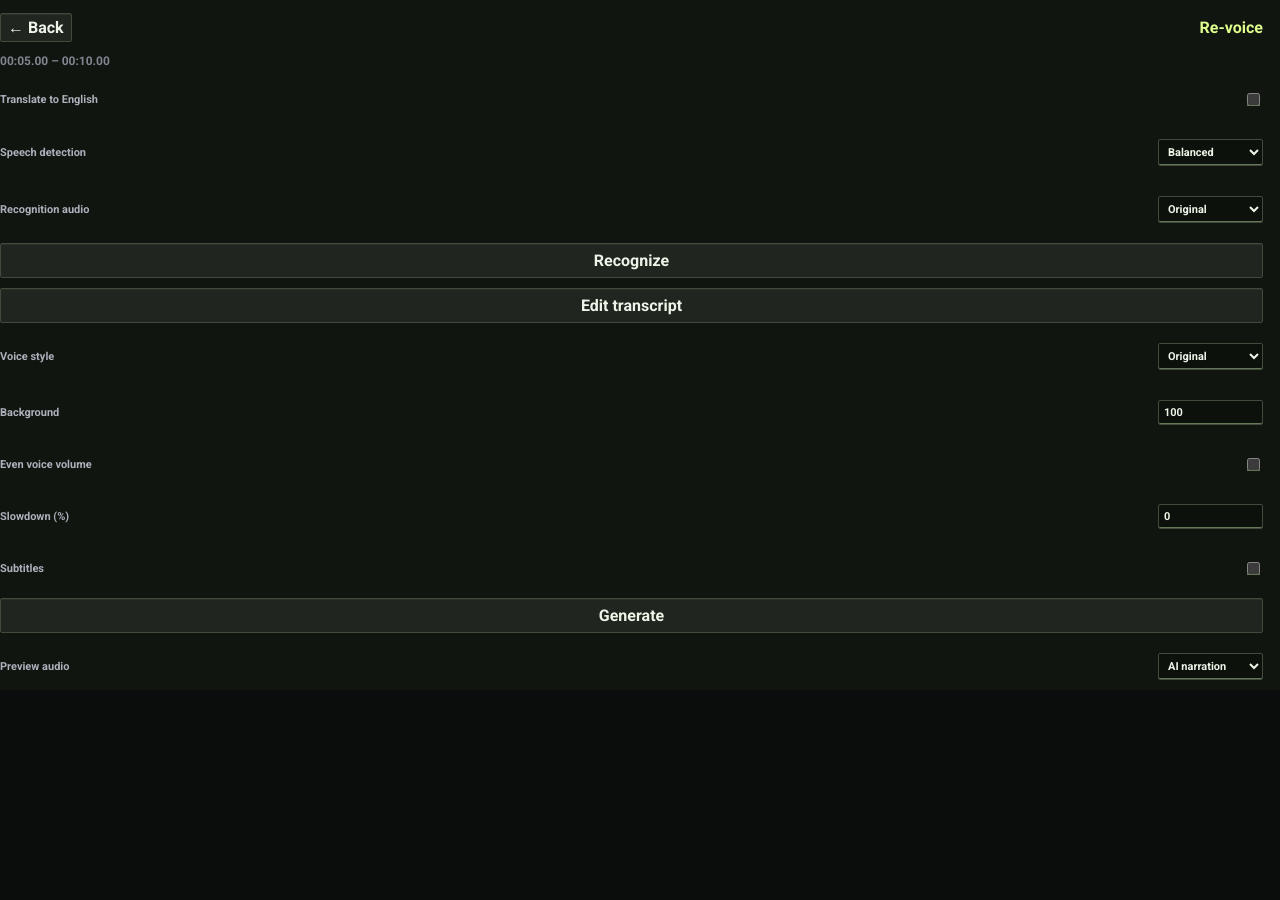
Test: Re-voice desktop › reopens an existing marked section from Add and keeps its timing review after the inspector mounts
Expected: the number field named "Background" is enabled, [1158,400,1263,425]
Expected: the checkbox named "Even voice volume" is enabled, [1247,458,1260,471]
Click the button "Generate": (632, 616) [0,598,1263,633]
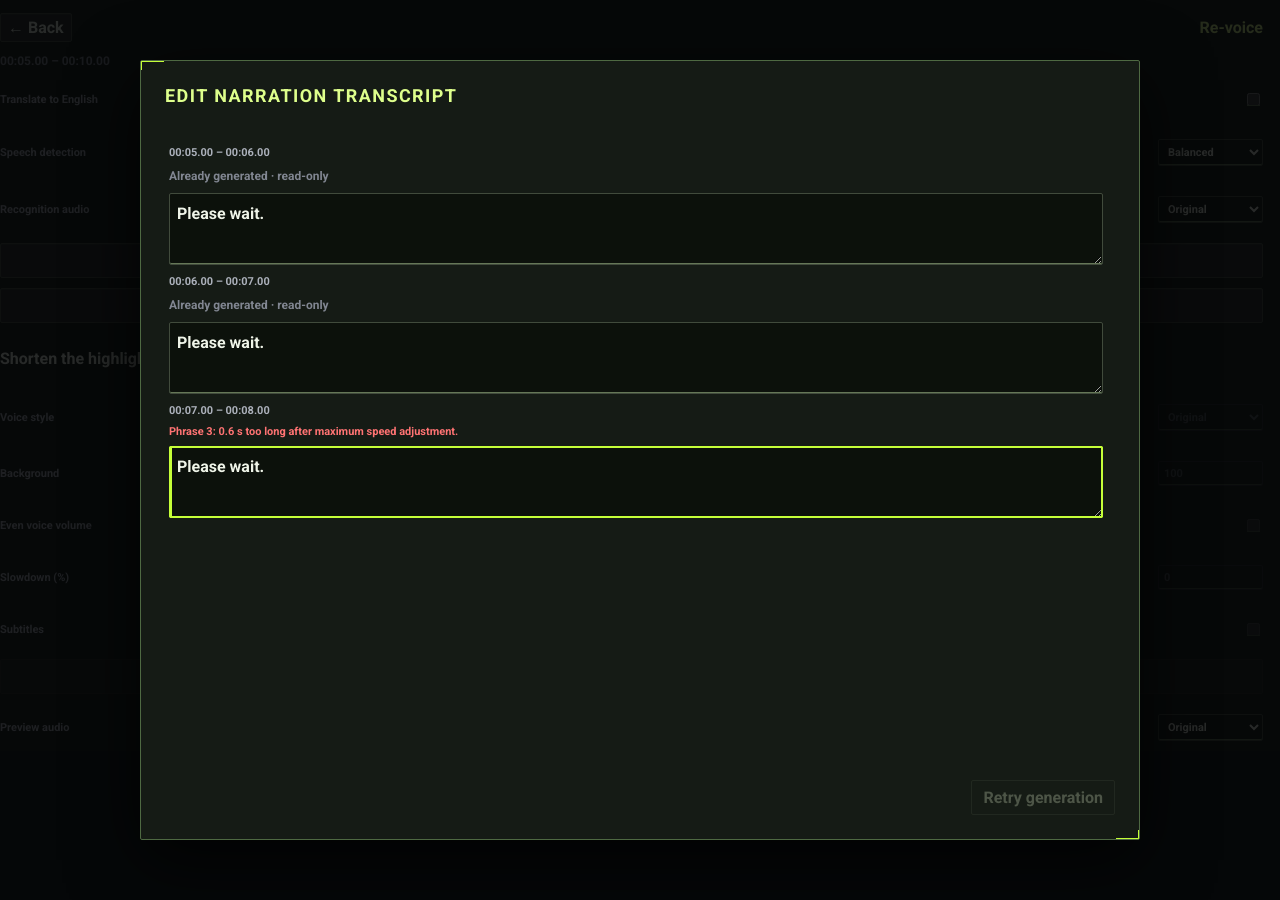
Now the text "Phrase 3: 0.6 s too long" is shown, box [169,425,458,438]
